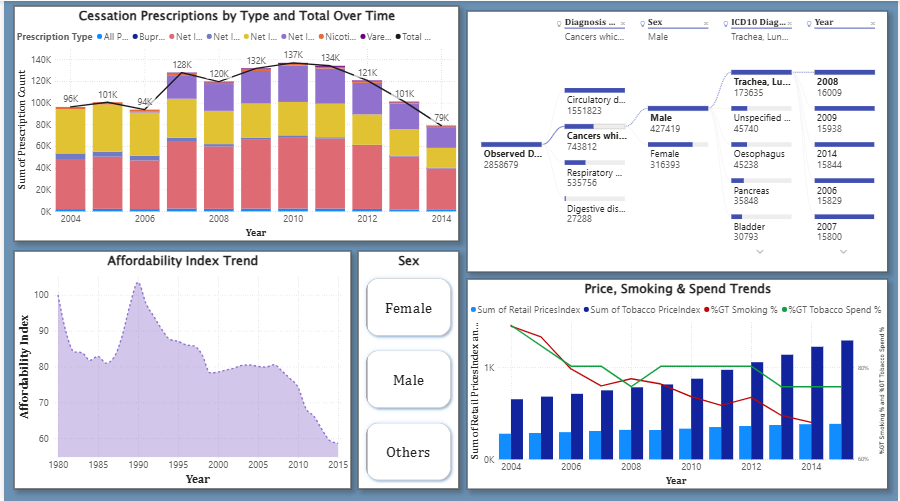

The page's visual inventory and layout, read from the dashboard file:
{"tool":"powerbi","page":{"name":"Page 2","canvas":[1929,1080],"ordinal":1},"visuals":[{"type":"decompositionTreeVisual","fields":{"Analyze":["fatalities_table.Observed Deaths"],"ExplainBy":["fatalities_table.Diagnosis Type","fatalities_table.Sex","fatalities_table.ICD10 Diagnosis","DimYear.Year"]},"box":[1000.1,21.6,909.4,563.8],"z":1000},{"type":"lineStackedColumnComboChart","title":"Cessation Prescriptions by Type and Total Over Time","fields":{"Category":["DimYear.Year"],"Y":["Sum(prescriptions.Prescription Count)"],"Series":["prescriptions.Prescription Type"],"Y2":["prescriptions.Total Prescriptions"]},"box":[21.6,10.8,961.2,507.6],"z":2000},{"type":"lineChart","title":"Affordability Index  Trend","fields":{"Category":["metrics.Year"],"Y":["metrics.Affordability Index"]},"box":[21.6,540,727.9,514.1],"z":3000},{"type":"lineClusteredColumnComboChart","title":"Price, Smoking & Spend Trends","fields":{"Category":["DimYear.Year"],"Y2":["smokers.Smoking %","metrics.Tobacco Spend %"],"Y":["Sum(metrics.Retail PricesIndex)","Sum(metrics.Tobacco PriceIndex)"]},"box":[1000.1,600.5,909.4,453.6],"z":4000},{"type":"advancedSlicerVisual","fields":{"Values":["smokers.Sex"]},"box":[764.6,540,218.2,514.1],"z":5000}]}

Visuals, with their boxes in screenshot pixels (x1, y1, x2, y2), scaled from the page's 1929x1080 canvas onto the 900x501 screenshot:
decompositionTreeVisual - fatalities_table.Observed Deaths x fatalities_table.Diagnosis Type: (x1=467, y1=10, x2=891, y2=272)
"Cessation Prescriptions by Type and Total Over Time" lineStackedColumnComboChart: (x1=10, y1=5, x2=459, y2=240)
"Affordability Index  Trend" lineChart: (x1=10, y1=250, x2=350, y2=489)
"Price, Smoking & Spend Trends" lineClusteredColumnComboChart: (x1=467, y1=279, x2=891, y2=489)
advancedSlicerVisual - smokers.Sex: (x1=357, y1=250, x2=459, y2=489)
